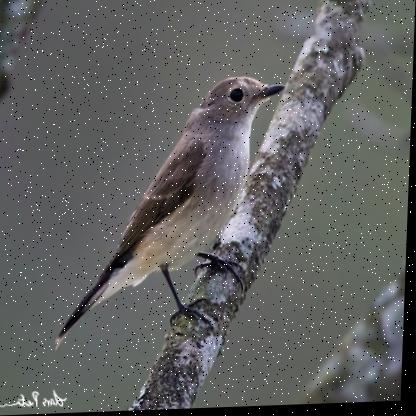Burung: (49, 75, 286, 350)
